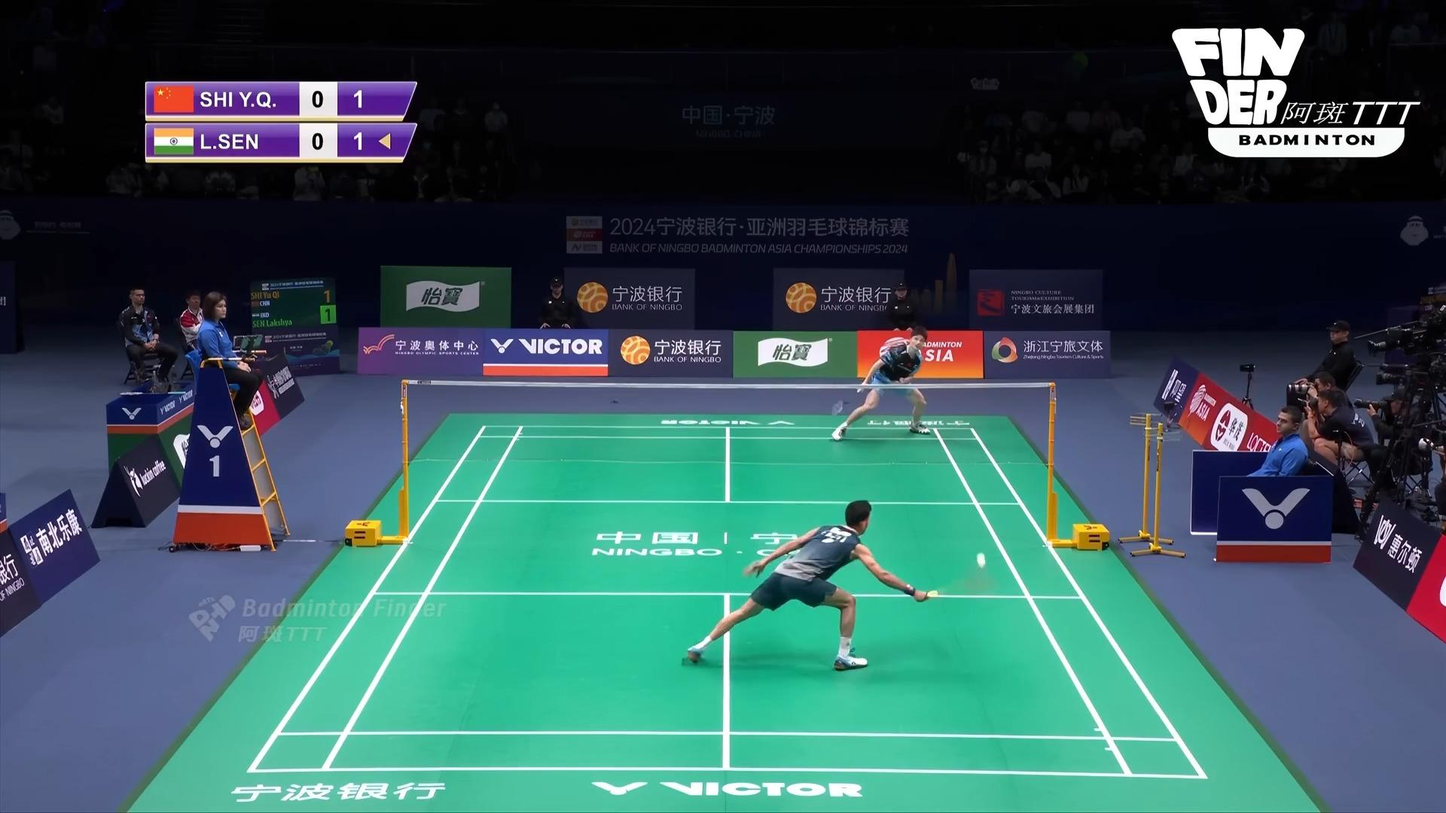shuttlecock: (976, 553, 985, 568)
